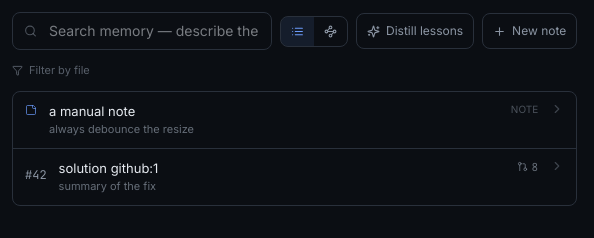
MemoryBrowser — notes and file filtering › suggests every touched file in the filter dropdown
Click the button "Filter by file" at (51, 70), box [12, 62, 90, 78]
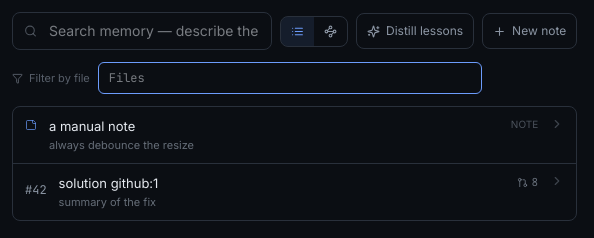
Type "src" into the field with placeholder "Files" at (290, 78), box [98, 62, 482, 94]
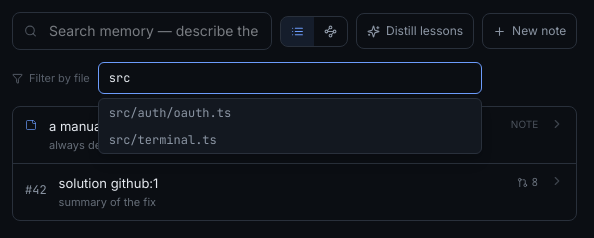
expect the button "src/auth/oauth.ts" is shown: met, box [99, 100, 481, 126]
expect the button "src/terminal.ts" is shown: met, box [99, 127, 481, 153]
